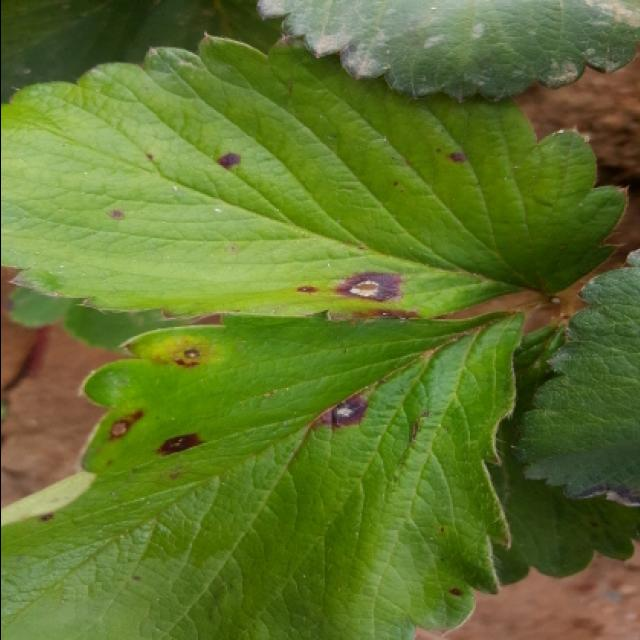Leaf Spot: (2, 33, 629, 319), (2, 307, 527, 638), (510, 246, 640, 509)
